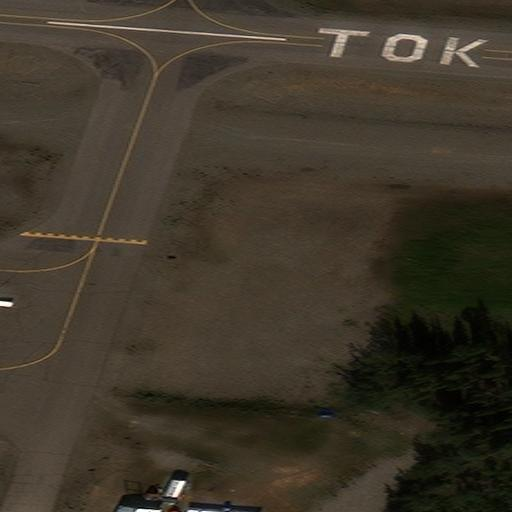Small Civil Transport: (186, 506, 248, 512)
